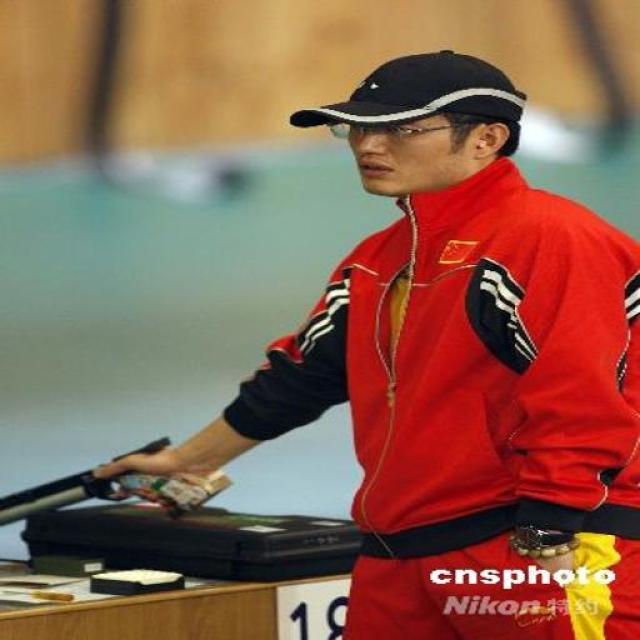pistol: (1, 435, 232, 522)
